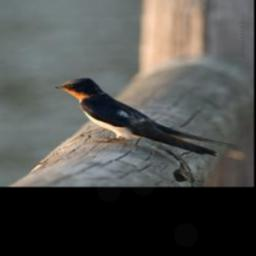Swallow: (49, 73, 243, 156)
